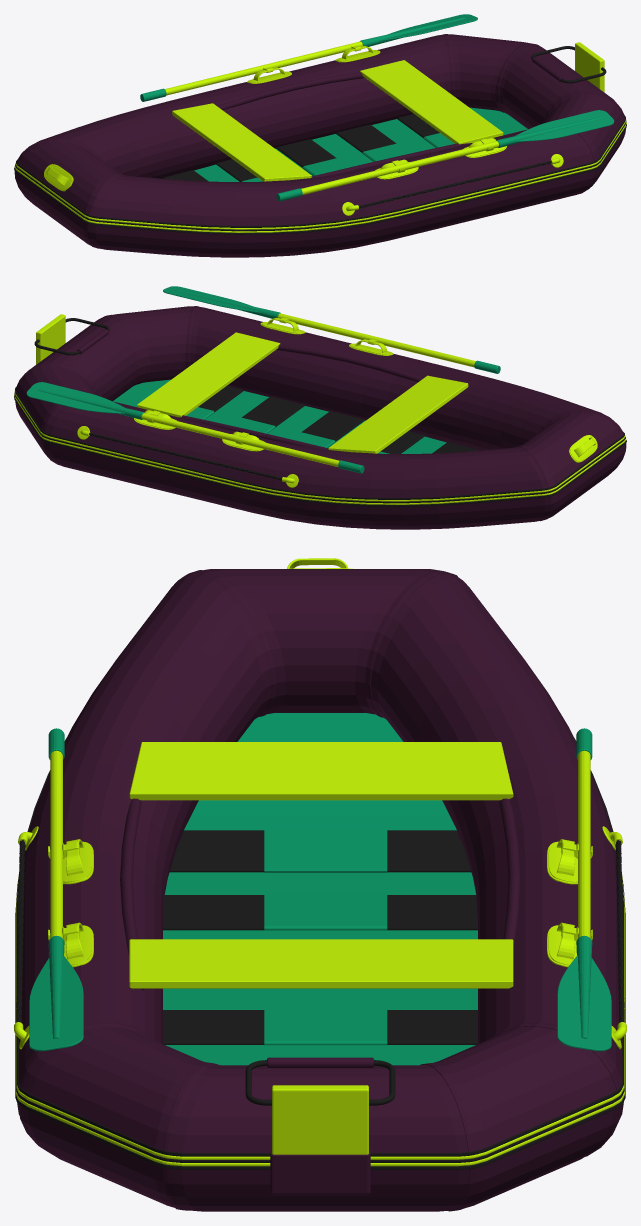
Rendered from oar.FBX.
The picture shows the model from 3 angles, top to bottom: view 1: azimuth 30°, elevation 25°; view 2: azimuth 150°, elevation 25°; view 3: azimuth 270°, elevation 25°; orthographic projection. The views are drawn at different scales.
Parts seen in each view (by area): view 1: arch48_028, arch48_023, arch48_027, arch48_022, arch48_025, arch48_021, arch48_024, arch48_029, arch48_026; view 2: arch48_028, arch48_023, arch48_027, arch48_022, arch48_021, arch48_025, arch48_024, arch48_029, arch48_026; view 3: arch48_028, arch48_023, arch48_022, arch48_021, arch48_025, arch48_027, arch48_024, arch48_029, arch48_026.
Part boxes in pixels (x1,y1,x2,y2): arch48_028: [14, 34, 625, 257]; arch48_023: [14, 42, 626, 232]; arch48_027: [14, 115, 626, 234]; arch48_022: [194, 107, 527, 181]; arch48_025: [140, 14, 614, 201]; arch48_021: [163, 114, 439, 181]; arch48_024: [165, 41, 498, 194]; arch48_029: [358, 160, 551, 208]; arch48_026: [531, 46, 606, 83]; arch48_028: [15, 306, 626, 529]; arch48_023: [14, 314, 626, 504]; arch48_027: [14, 387, 626, 506]; arch48_022: [113, 379, 446, 453]; arch48_021: [198, 386, 477, 453]; arch48_025: [26, 286, 500, 473]; arch48_024: [141, 313, 475, 466]; arch48_029: [89, 432, 281, 480]; arch48_026: [34, 318, 109, 355]; arch48_028: [17, 569, 623, 1211]; arch48_023: [14, 558, 626, 1166]; arch48_022: [163, 713, 477, 1065]; arch48_021: [163, 830, 477, 1044]; arch48_025: [29, 728, 611, 1051]; arch48_027: [15, 738, 625, 1169]; arch48_024: [50, 750, 590, 938]; arch48_029: [16, 840, 624, 1022]; arch48_026: [245, 1060, 395, 1105].
Bounding box in the file's own units: 114 × 18.93 × 57.63.
